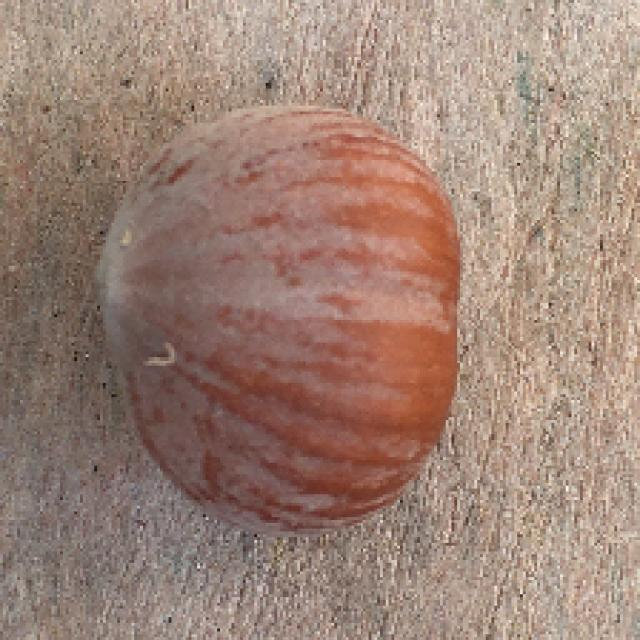qualityHazelnut: (99, 76, 478, 543)
